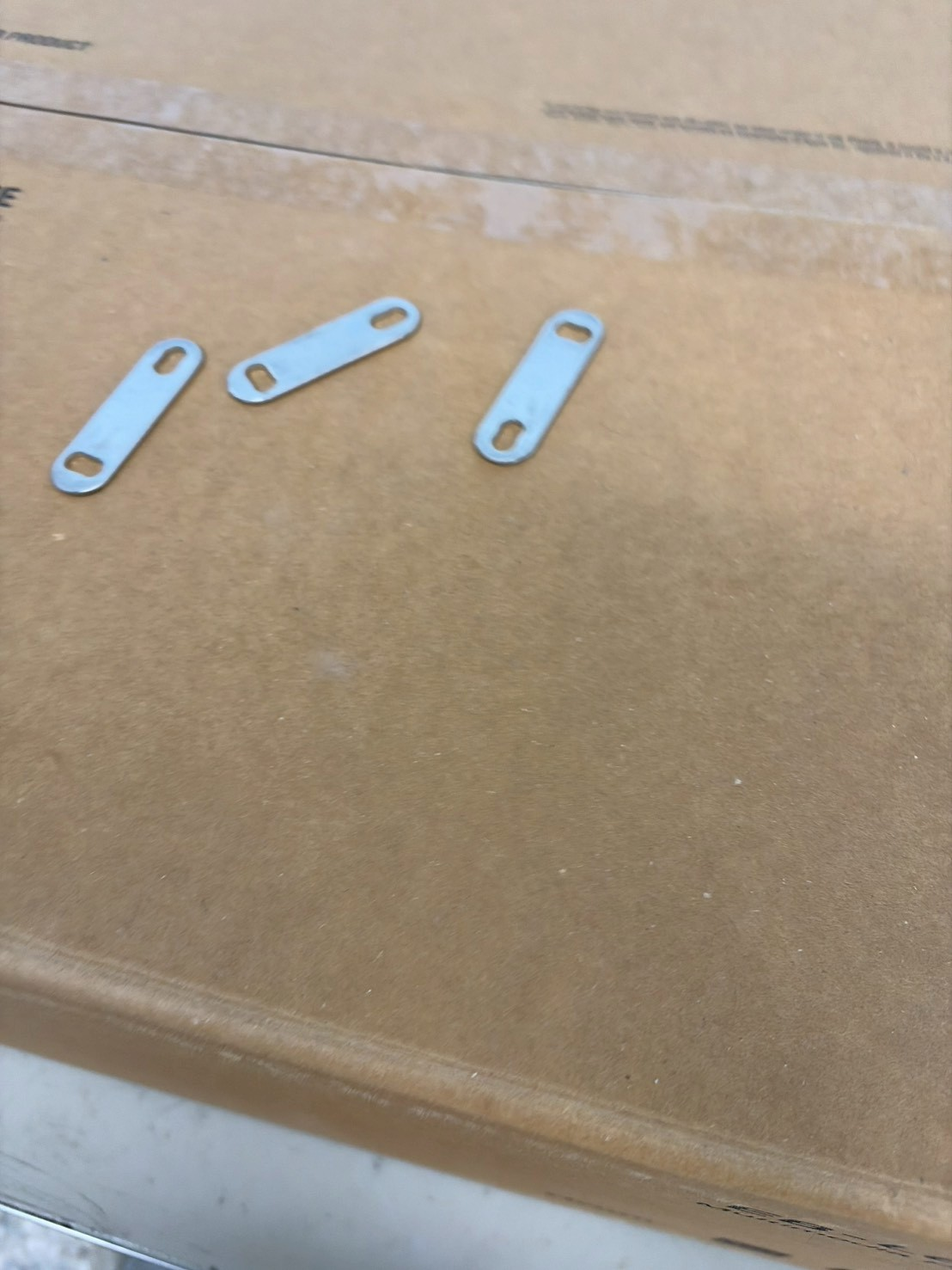Fe: (460, 294, 609, 459), (42, 340, 198, 492), (221, 283, 409, 397)
